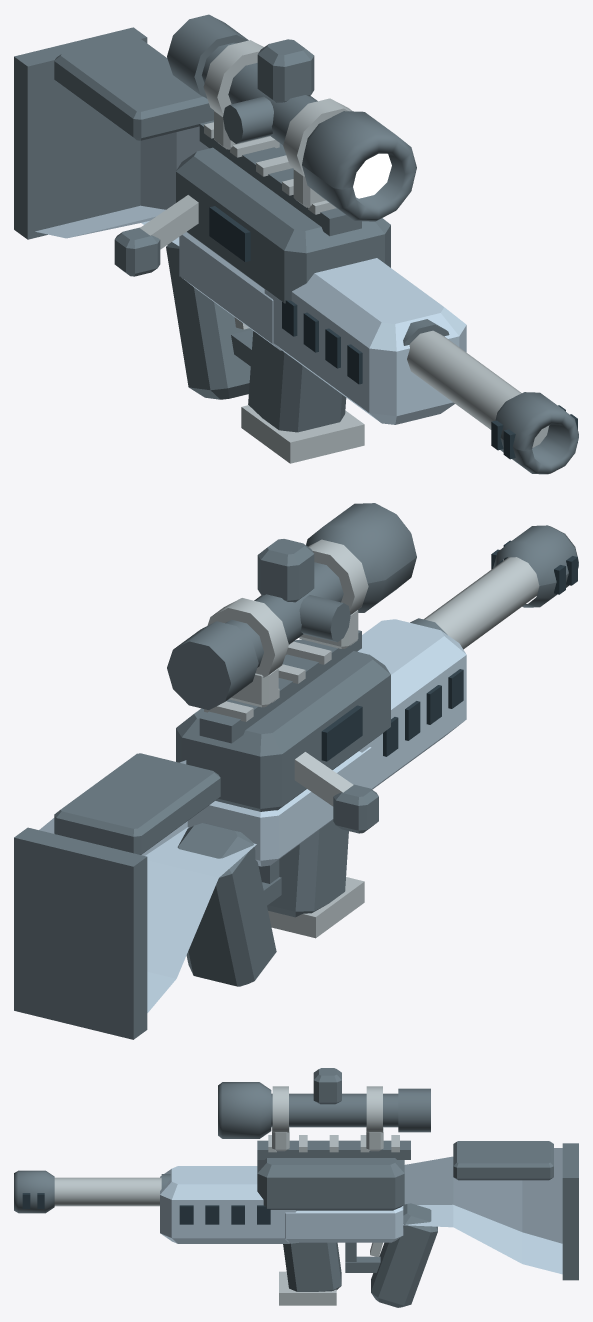
File: sniper.glb
3 views of the same model, one above another, from view 1: azimuth 30°, elevation 25°; view 2: azimuth 150°, elevation 25°; view 3: azimuth 270°, elevation 25° (orthographic). The views are drawn at different scales.
Parts seen in each view (by area): view 1: static:equipment-dark-steel, static:equipment-rubber, static:equipment-sniper, static:equipment-steel, static:equipment-recess, static:equipment-sniper-light; view 2: static:equipment-rubber, static:equipment-dark-steel, static:equipment-sniper, static:equipment-steel, static:equipment-recess; view 3: static:equipment-sniper, static:equipment-dark-steel, static:equipment-rubber, static:equipment-steel, static:equipment-recess.
Part boxes in pixels (x1,y1,x2,y2): static:equipment-dark-steel: (176,39,578,474); static:equipment-rubber: (14,14,251,399); static:equipment-sniper: (35,126,466,424); static:equipment-steel: (140,40,549,463); static:equipment-recess: (209,206,577,459); static:equipment-sniper-light: (353,153,391,198); static:equipment-rubber: (14,621,378,1039); static:equipment-dark-steel: (176,503,578,917); static:equipment-sniper: (39,619,466,1012); static:equipment-steel: (204,539,539,938); static:equipment-recess: (321,540,577,761); static:equipment-sniper: (160,1148,562,1274); static:equipment-dark-steel: (14,1068,410,1291); static:equipment-rubber: (371,1088,578,1307); static:equipment-steel: (54,1086,399,1305); static:equipment-recess: (22,1193,270,1224).
Size of the model in its own units: 0.2025 by 0.4058 by 0.9.
